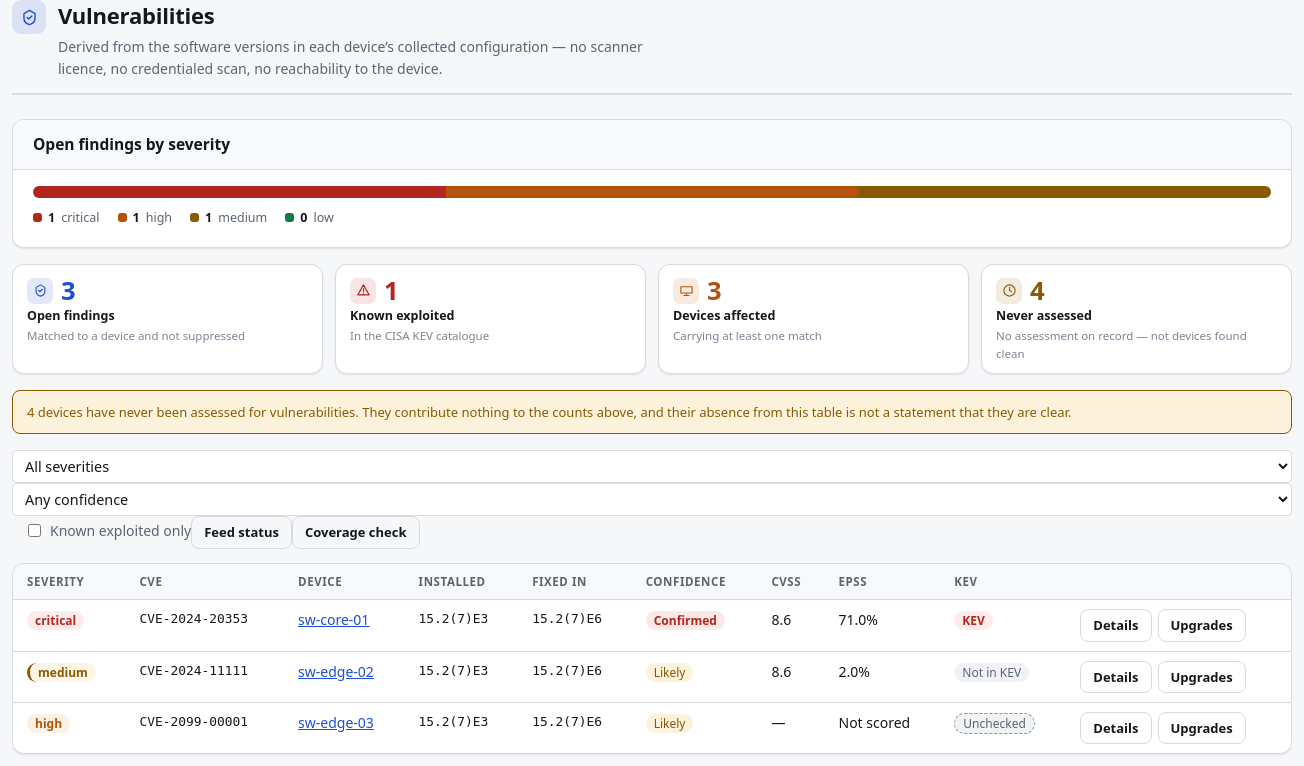
Test: VulnerabilitiesPage › feed status › shows how old the data is, not only when it was imported
Expected: the link "sw-core-01" is shown, 298,610 -> 369,629
Click the button "Feed status".
click(242, 533)  # box 191,516 -> 292,549
(page scrolled)
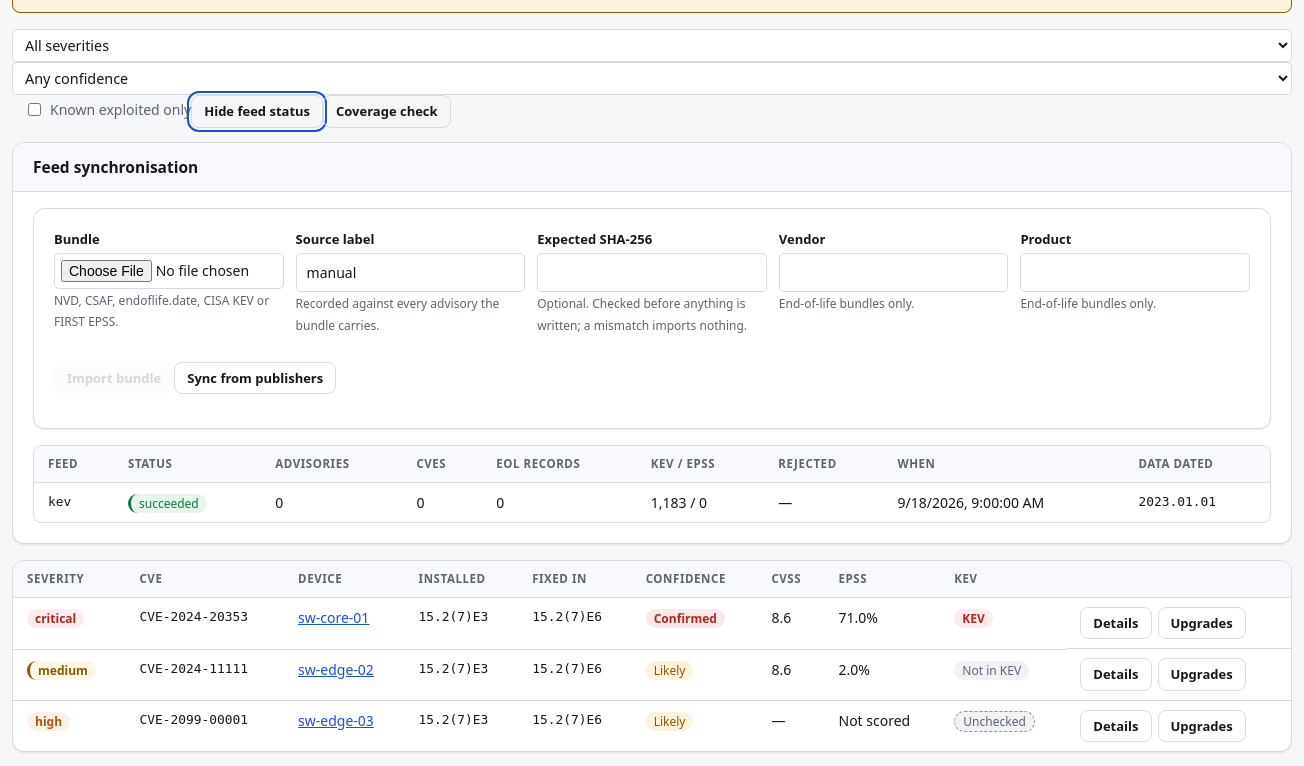
Now the column heading "Data dated" is shown, box 1124,446 -> 1270,482
Now the text "2023.01.01" is shown, box 1124,482 -> 1270,522
Now the text "1,183 / 0" is shown, box 637,482 -> 764,522
